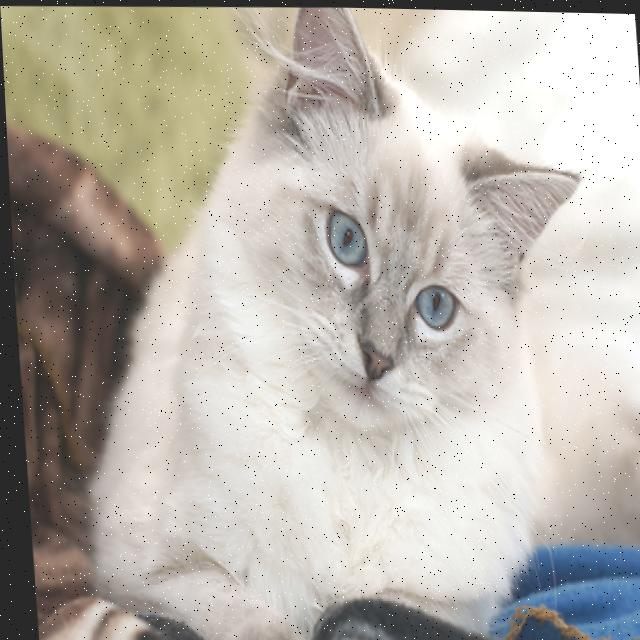Ragdoll: (46, 1, 640, 640)
